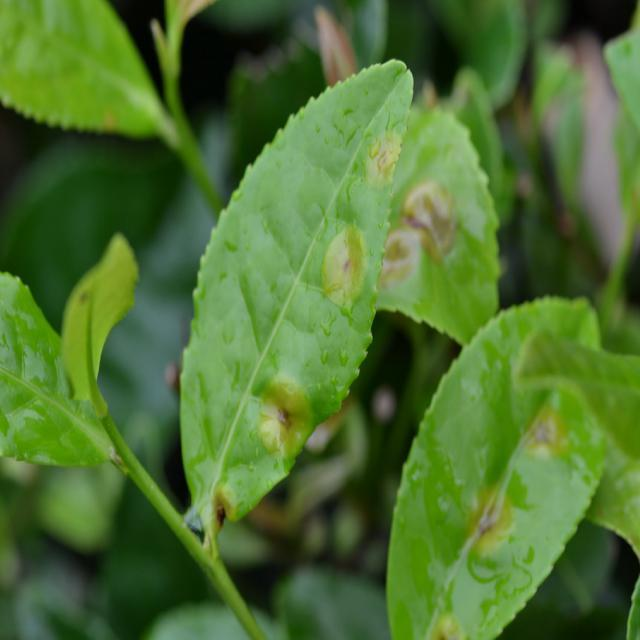Tea cake: (255, 374, 311, 453), (327, 224, 361, 299), (370, 123, 399, 176)
